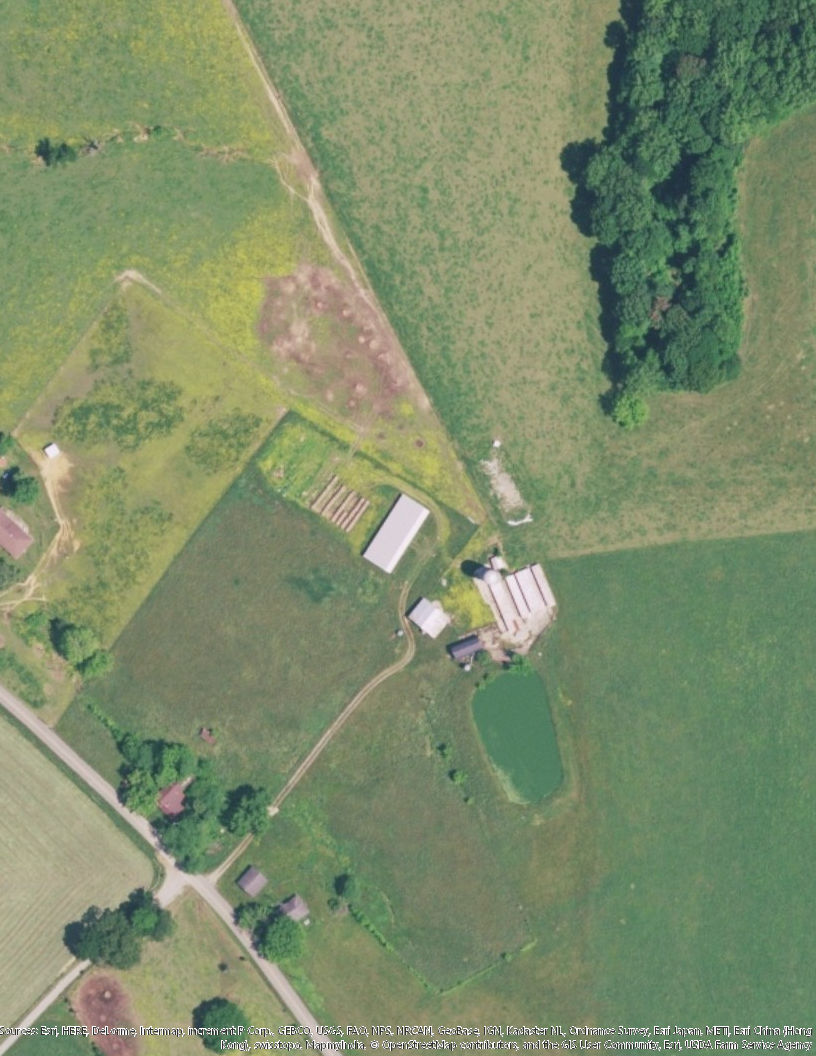cafo: (364, 491, 430, 575)
